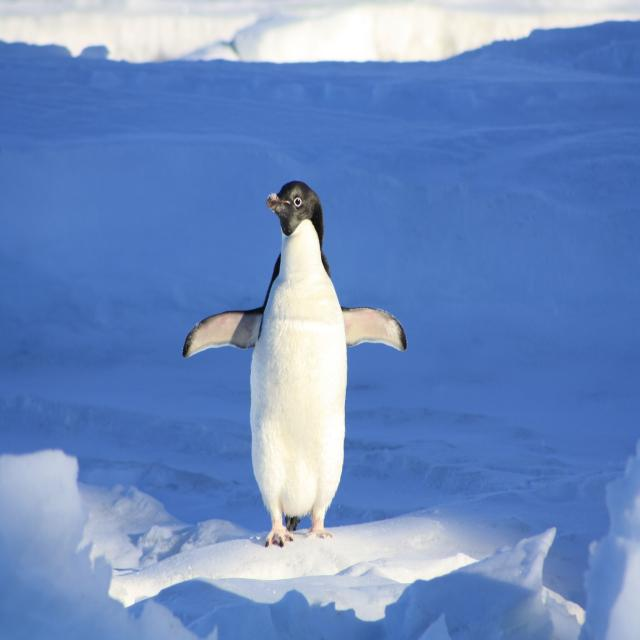animal: (182, 173, 403, 550)
